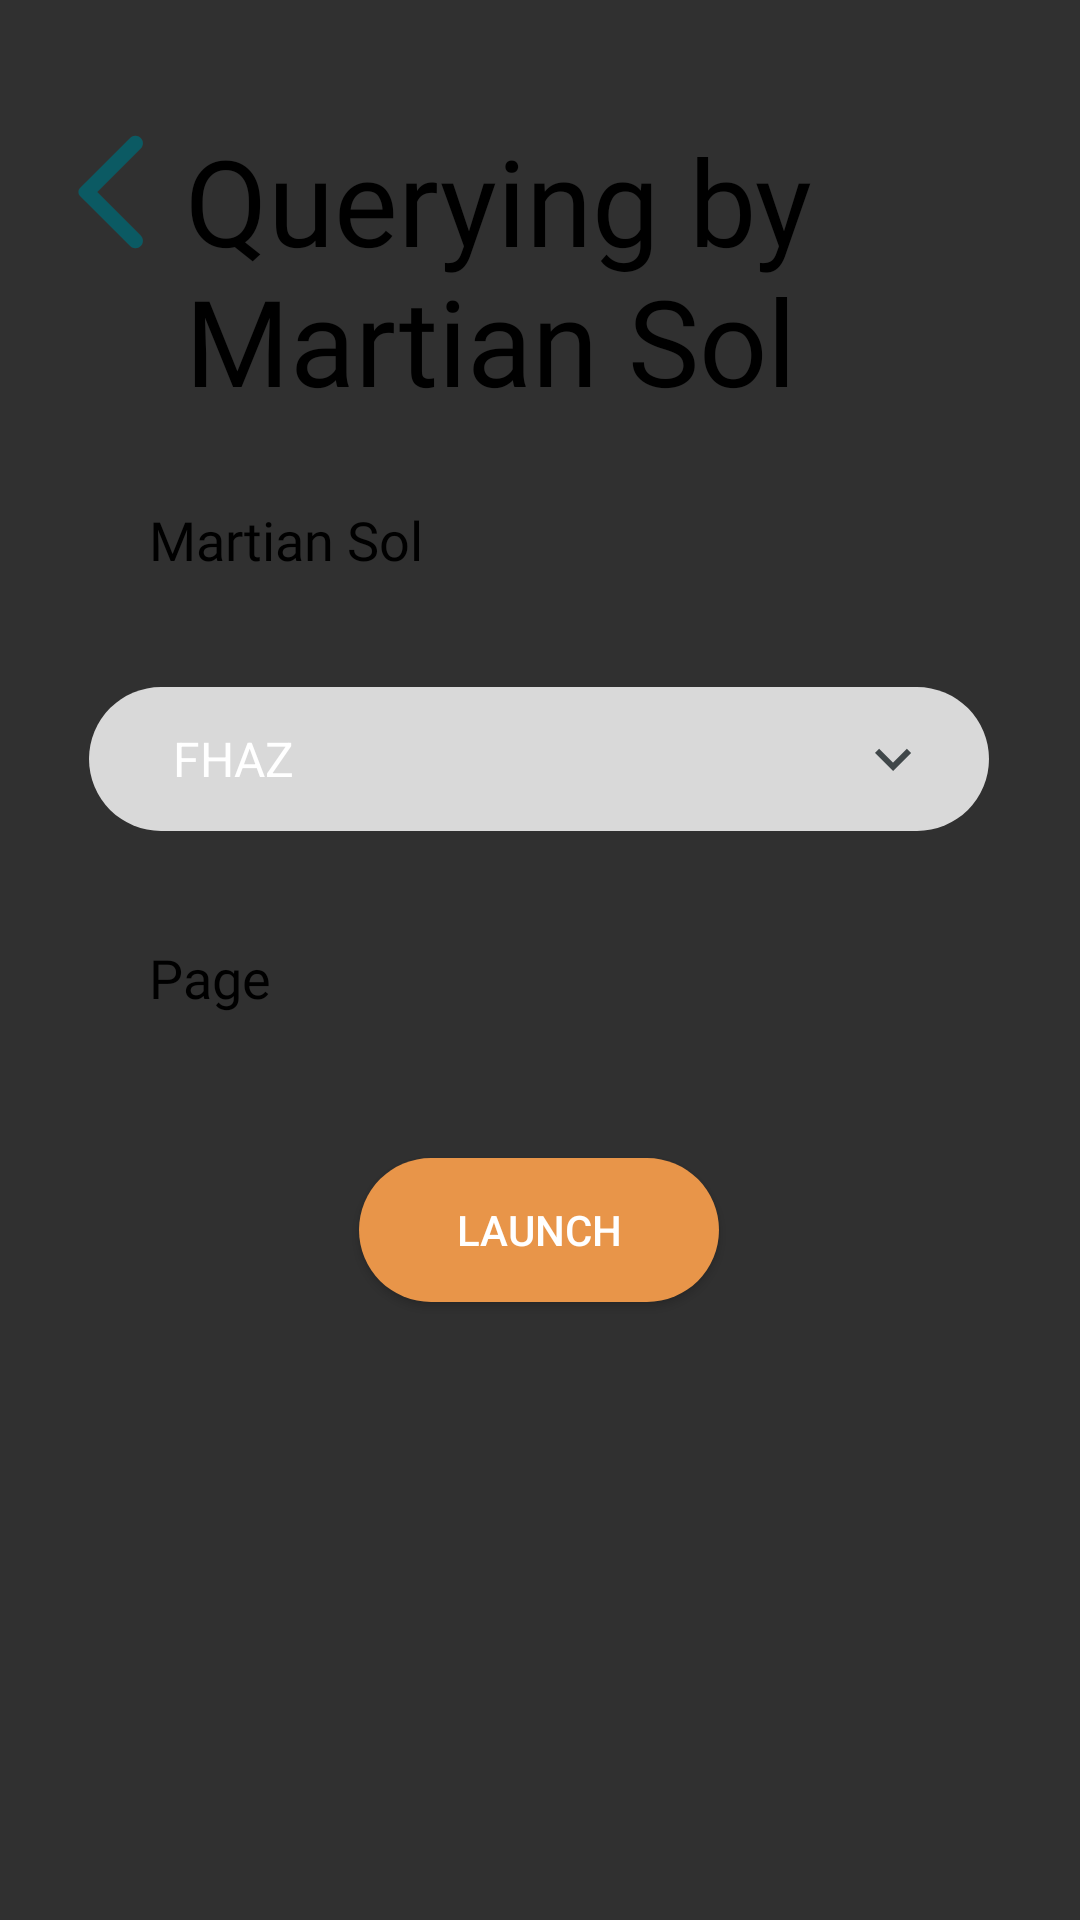

Screen size 1080×1920. Icon name, then its center in pixels as [x,y]:
ir a menu: [110,192]
